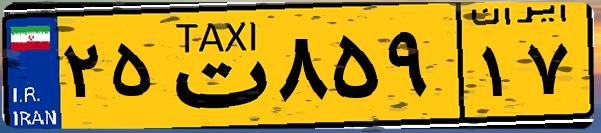1: (475, 38, 525, 113)
2: (57, 26, 110, 100)
5: (330, 28, 385, 110), (110, 28, 158, 98)
7: (525, 38, 570, 115)
8: (270, 28, 330, 110)
9: (385, 28, 445, 110)
ت: (158, 12, 270, 120)
